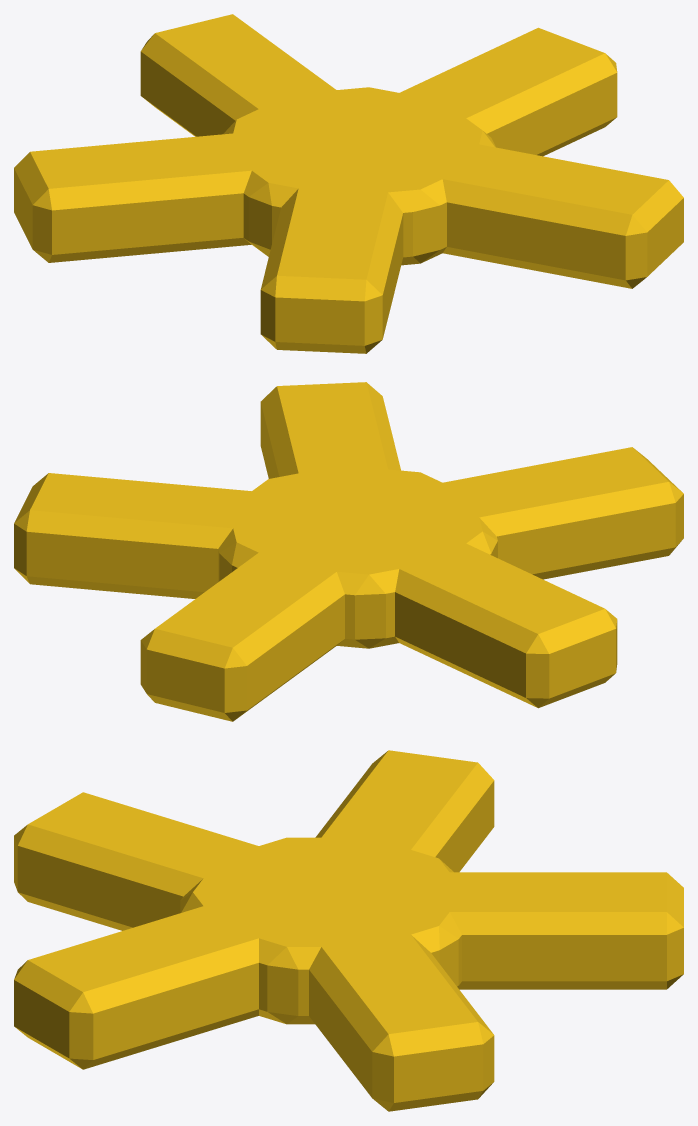
The model's file is star.glb.
The picture shows the model from 3 angles, top to bottom: view 1: azimuth 30°, elevation 25°; view 2: azimuth 150°, elevation 25°; view 3: azimuth 270°, elevation 25°; orthographic projection. The views are drawn at different scales.
Parts seen in each view (by area): view 1: star; view 2: star; view 3: star.
Part boxes in pixels (left/top/right/bottom): star: left=14, top=14, right=683, bottom=353; star: left=14, top=382, right=683, bottom=721; star: left=14, top=750, right=683, bottom=1111.
Size of the model in its own units: 0.1647 by 0.02 by 0.1566.
